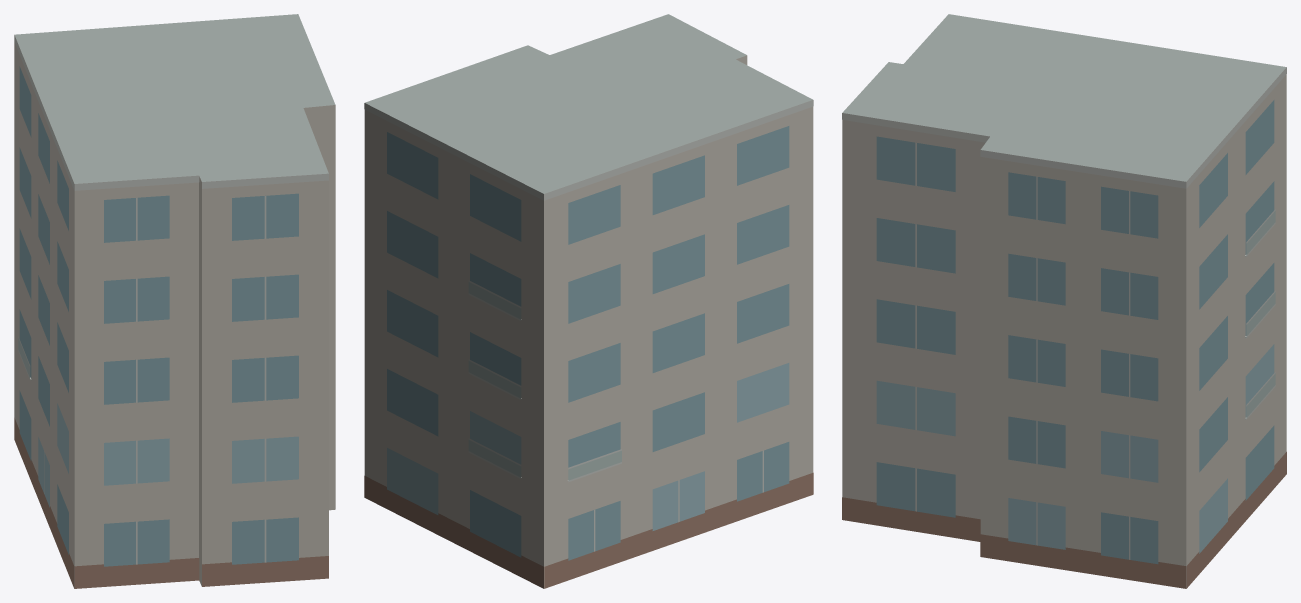
Rendered from survey-upis-32998050.glb.
The picture shows the model from 3 angles, left to right: view 1: azimuth 30°, elevation 25°; view 2: azimuth 150°, elevation 25°; view 3: azimuth 270°, elevation 25°; orthographic projection. The views are drawn at different scales.
Visible parts, largest first — view 1: survey-upis-32998050.tmp; view 2: survey-upis-32998050.tmp; view 3: survey-upis-32998050.tmp.
Boxes of the visible parts, x1,y1,x2,y2 form: survey-upis-32998050.tmp: (14, 14, 335, 588); survey-upis-32998050.tmp: (364, 14, 813, 588); survey-upis-32998050.tmp: (842, 14, 1286, 588).
Size of the model in its own units: 12.74 by 14.4 by 14.27.
